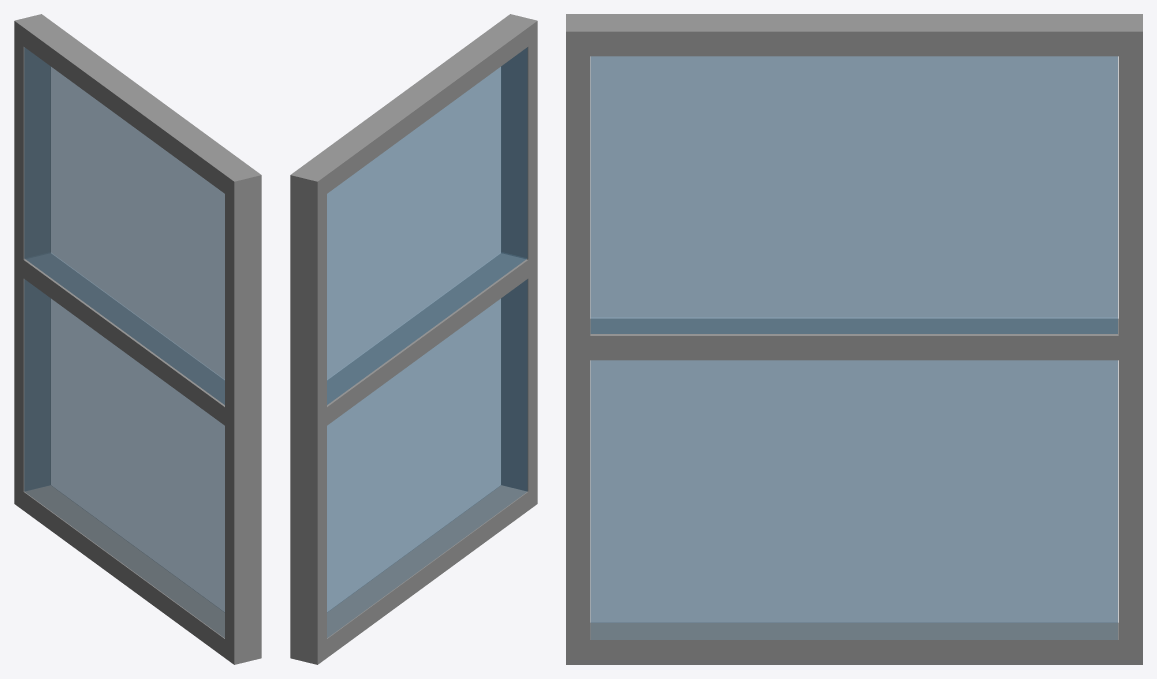
The model's file is window.FBX.
The picture shows the model from 3 angles, left to right: view 1: azimuth 30°, elevation 25°; view 2: azimuth 150°, elevation 25°; view 3: azimuth 270°, elevation 25°; orthographic projection. The views are drawn at different scales.
Parts seen in each view (by area): view 1: Box001, Box002, Box003; view 2: Box001, Box002, Box003; view 3: Box002, Box003, Box001.
Part boxes in pixels (box(x1,y1,x2,y2)): Box001: box(14, 14, 261, 664); Box002: box(24, 279, 224, 637); Box003: box(24, 47, 224, 404); Box001: box(290, 14, 537, 664); Box002: box(327, 279, 527, 637); Box003: box(327, 47, 527, 404); Box002: box(590, 360, 1117, 639); Box003: box(590, 56, 1117, 333); Box001: box(566, 14, 1142, 664).
Size of the model in its own units: 2.46 by 41.51 by 34.26.
